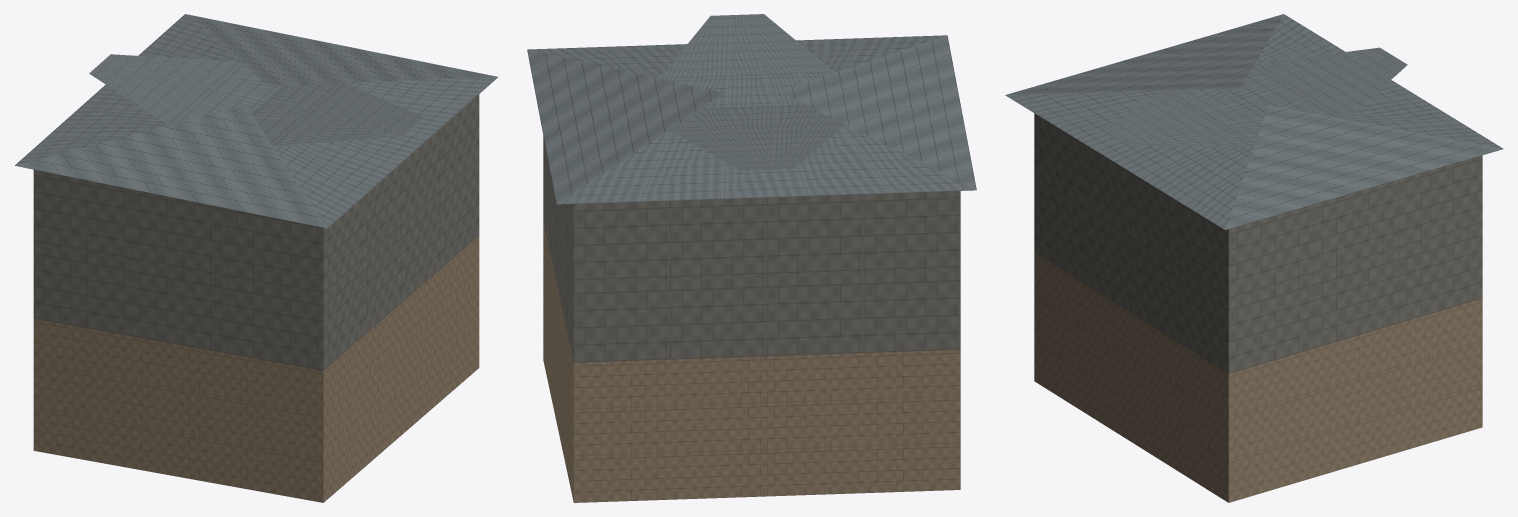
The model's file is bld_c19_29_379.gltf.
The picture shows the model from 3 angles, left to right: view 1: azimuth 30°, elevation 25°; view 2: azimuth 150°, elevation 25°; view 3: azimuth 270°, elevation 25°; orthographic projection. The views are drawn at different scales.
Parts seen in each view (by area): view 1: bld_c19_29_379; view 2: bld_c19_29_379; view 3: bld_c19_29_379.
Boxes of the visible parts, bbox=[...] form: bld_c19_29_379: bbox=[15, 14, 497, 502]; bld_c19_29_379: bbox=[527, 14, 976, 502]; bld_c19_29_379: bbox=[1005, 14, 1503, 502].
Bounding box in the file's own units: 18.32 × 12.1 × 17.87.
Materials: 3 (3 with a texture image).
